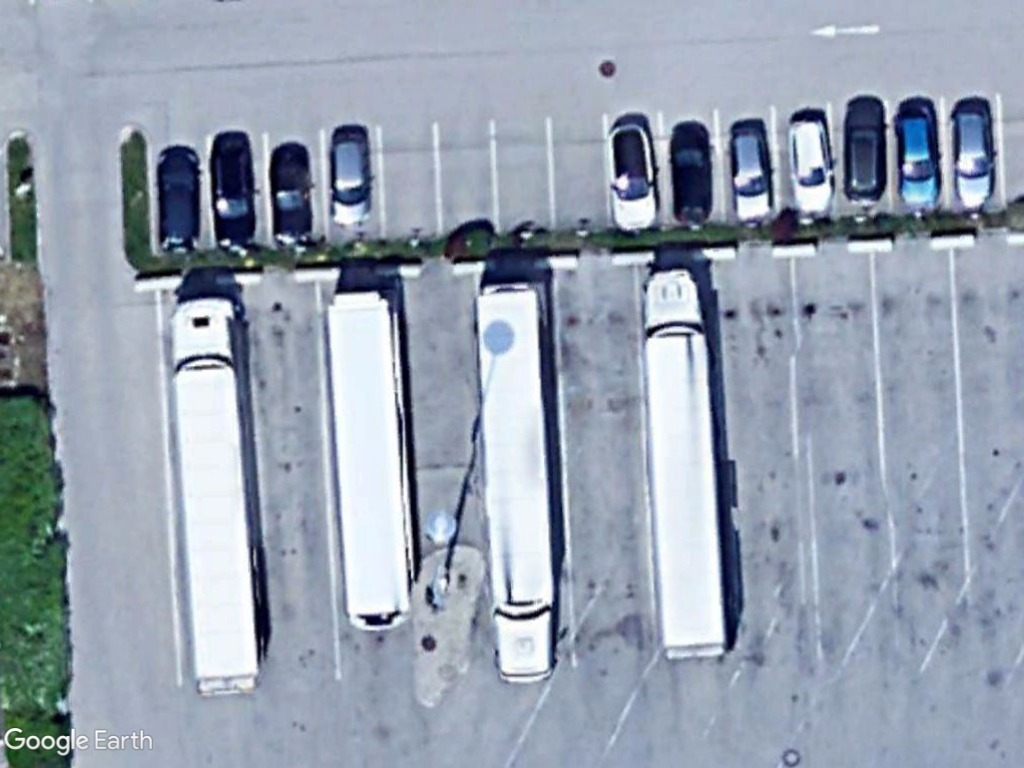car: (604, 117, 660, 234), (209, 131, 261, 250), (155, 144, 206, 256), (949, 104, 999, 212), (785, 114, 836, 218), (726, 122, 777, 226), (891, 108, 942, 210), (266, 145, 317, 242), (841, 101, 888, 205), (668, 125, 716, 226), (328, 131, 375, 229)
longvehicle: (165, 294, 270, 701), (635, 264, 731, 665), (470, 276, 563, 685)
